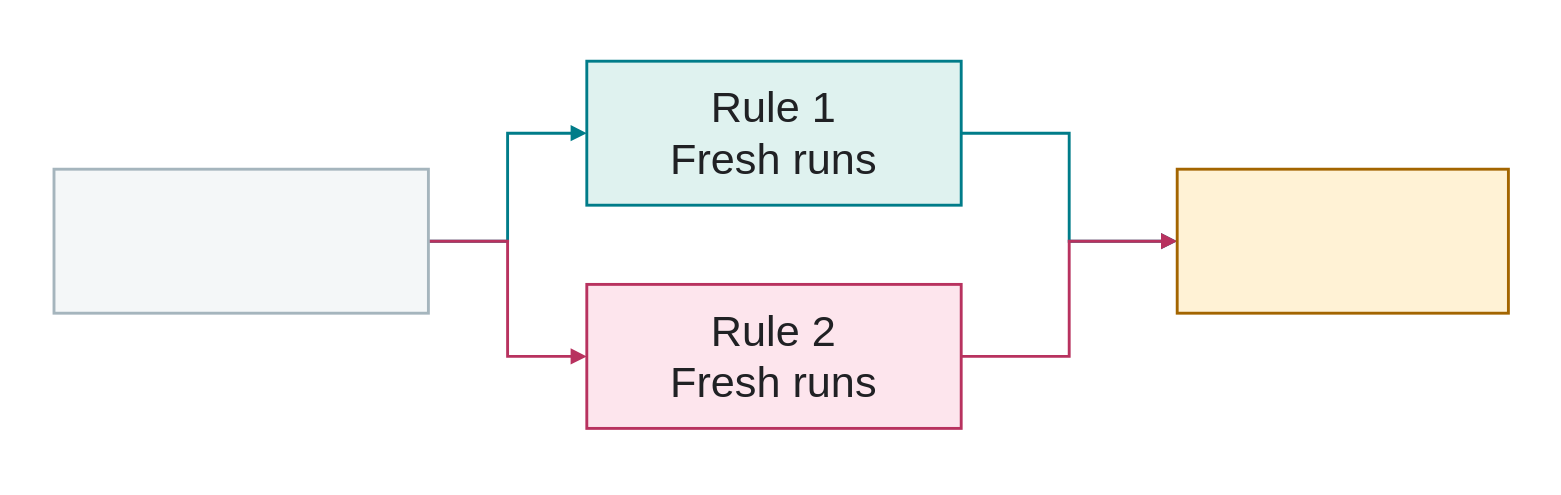
Image size: 1561x495. Some labels were removed from this diagram. The shapes that lost their labels are listed below. From the top down, each one's centre as x and y in pixels, then its label:
[240,240]: Same bandit problem
[1342,240]: Compare reward and variation
